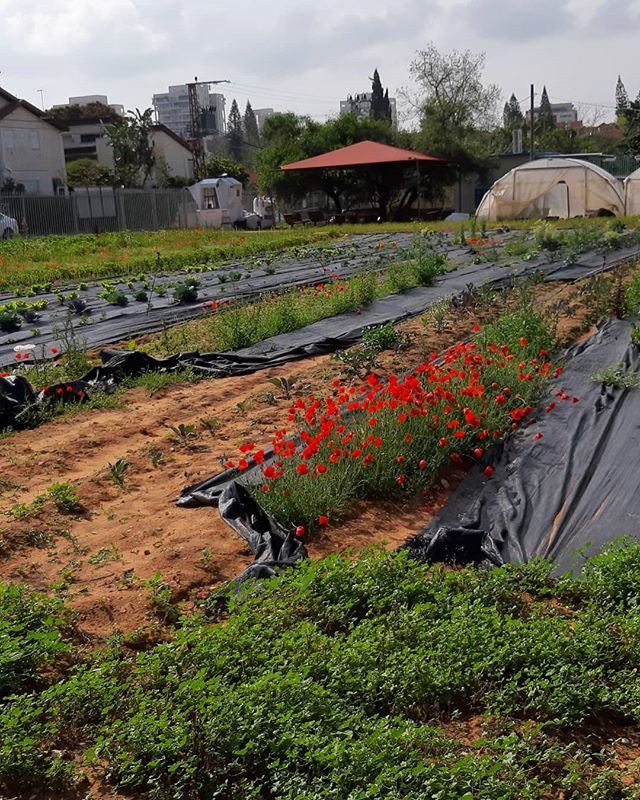building: (140, 80, 233, 217), (1, 88, 93, 225)
sky: (1, 1, 612, 144)
vegetation: (1, 235, 609, 800)
